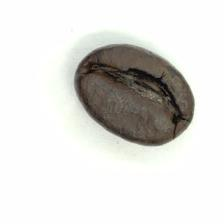NG: (84, 55, 189, 138)
